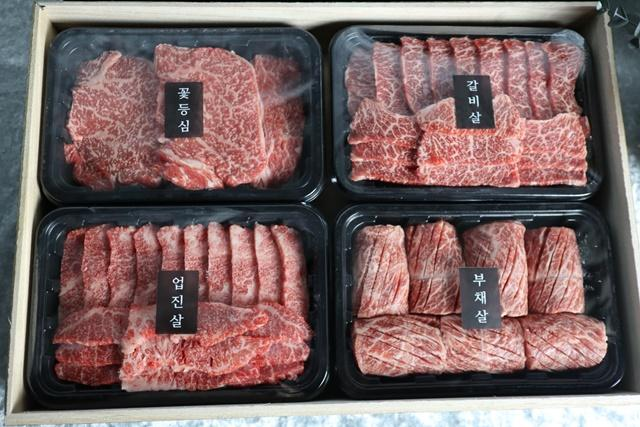beef: (63, 151, 305, 255), (351, 149, 605, 248), (343, 25, 588, 125), (72, 30, 307, 123)
